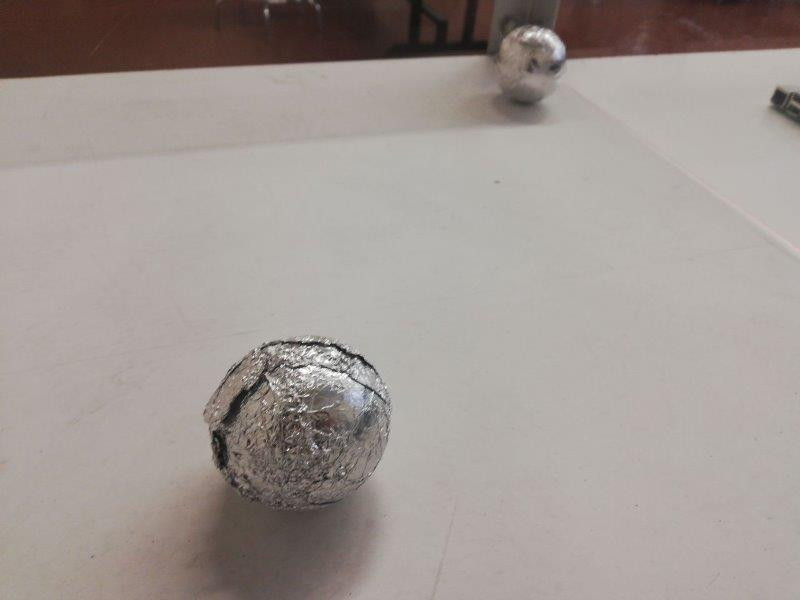bianca: (206, 338, 393, 510), (497, 27, 565, 98)
